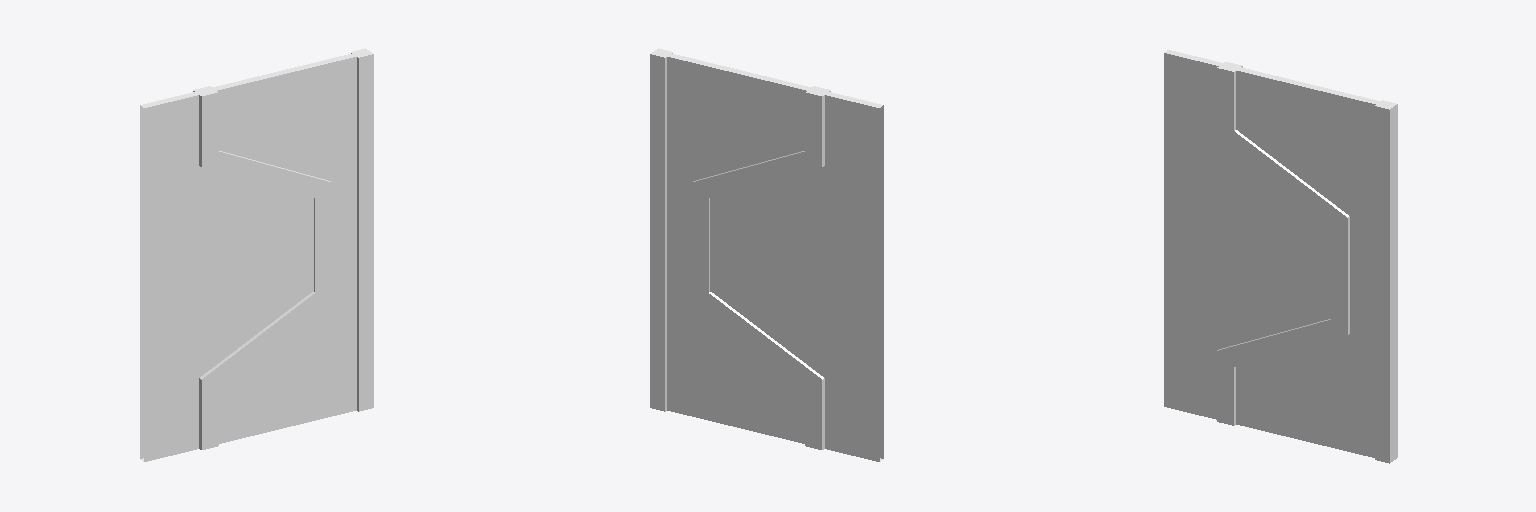
Rendered from Door.obj.
3 views of the same model, side by side, from view 1: azimuth 30°, elevation 25°; view 2: azimuth 150°, elevation 25°; view 3: azimuth 330°, elevation 25° (orthographic).
Parts seen in each view (by area): view 1: Door; view 2: Door; view 3: Door.
Part boxes in pixels (x1,y1,x2,y2): Door: (140, 48, 373, 461); Door: (650, 48, 883, 461); Door: (1164, 50, 1397, 463).
Size of the model in its own units: 1.5 by 2.23 by 0.1.